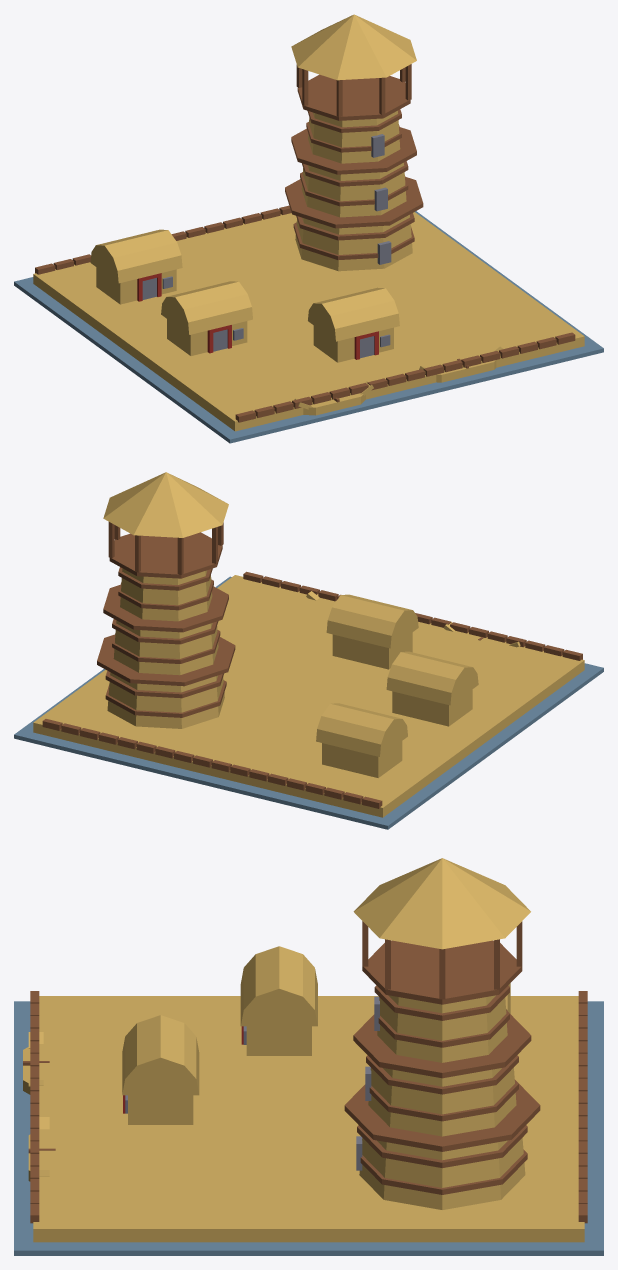
File: house-2x2-3f-totora-a.glb
3 renders of one model, top to bottom at view 1: azimuth 30°, elevation 25°; view 2: azimuth 150°, elevation 25°; view 3: azimuth 270°, elevation 25°, orthographic. The views are drawn at different scales.
Parts seen in each view (by area): view 1: house-2x2-3f-totora-a; view 2: house-2x2-3f-totora-a; view 3: house-2x2-3f-totora-a.
Boxes of the visible parts, bbox=[...] form: house-2x2-3f-totora-a: bbox=[14, 14, 603, 443]; house-2x2-3f-totora-a: bbox=[14, 472, 603, 829]; house-2x2-3f-totora-a: bbox=[14, 858, 603, 1255].
Bounding box in the file's own units: 1.99 × 1.25 × 1.99.
Materials: 1 (1 with a texture image).
